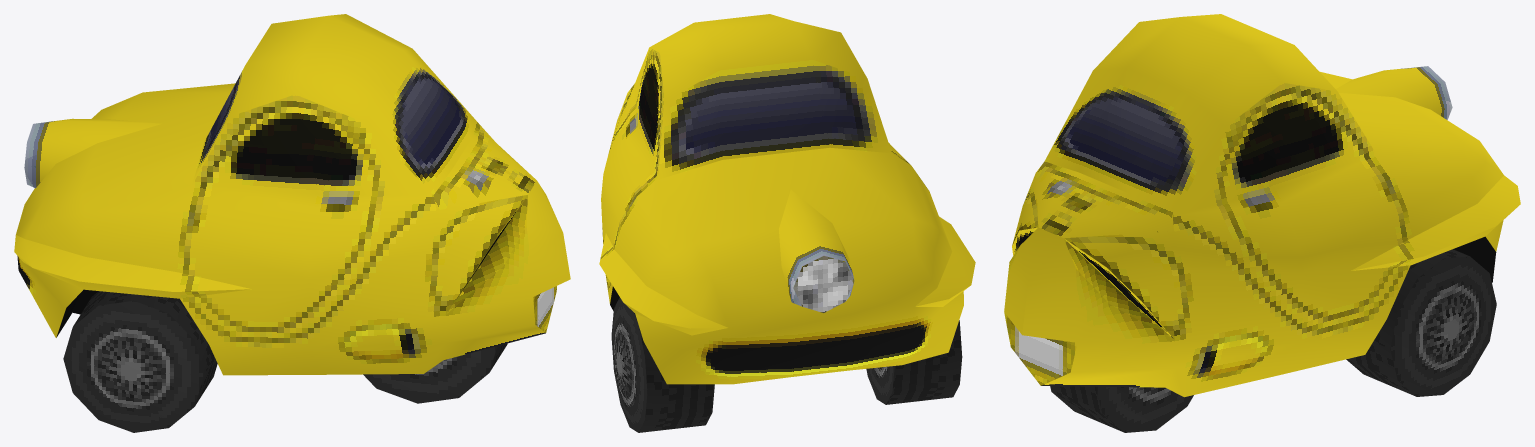
The model's file is ps2_save-icons_choroq.glb.
The picture shows the model from 3 angles, left to right: view 1: azimuth 30°, elevation 25°; view 2: azimuth 150°, elevation 25°; view 3: azimuth 270°, elevation 25°; orthographic projection. The views are drawn at different scales.
Visible parts, largest first — view 1: static.ico; view 2: static.ico; view 3: static.ico.
Part boxes in pixels (x1,y1,x2,y2): static.ico: (14, 14, 570, 432); static.ico: (599, 14, 975, 432); static.ico: (1004, 14, 1520, 432).
Bounding box in the file's own units: 3.6 × 2.73 × 3.6.
Materials: 1 (1 with a texture image).
